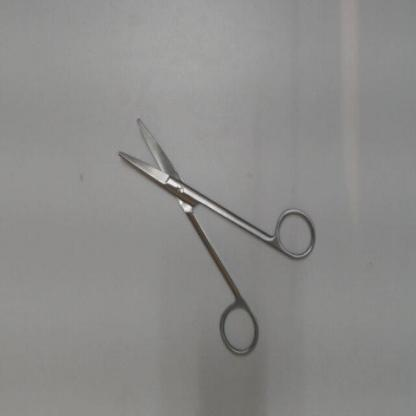Curved Mayo Scissors: (111, 102, 324, 362)
